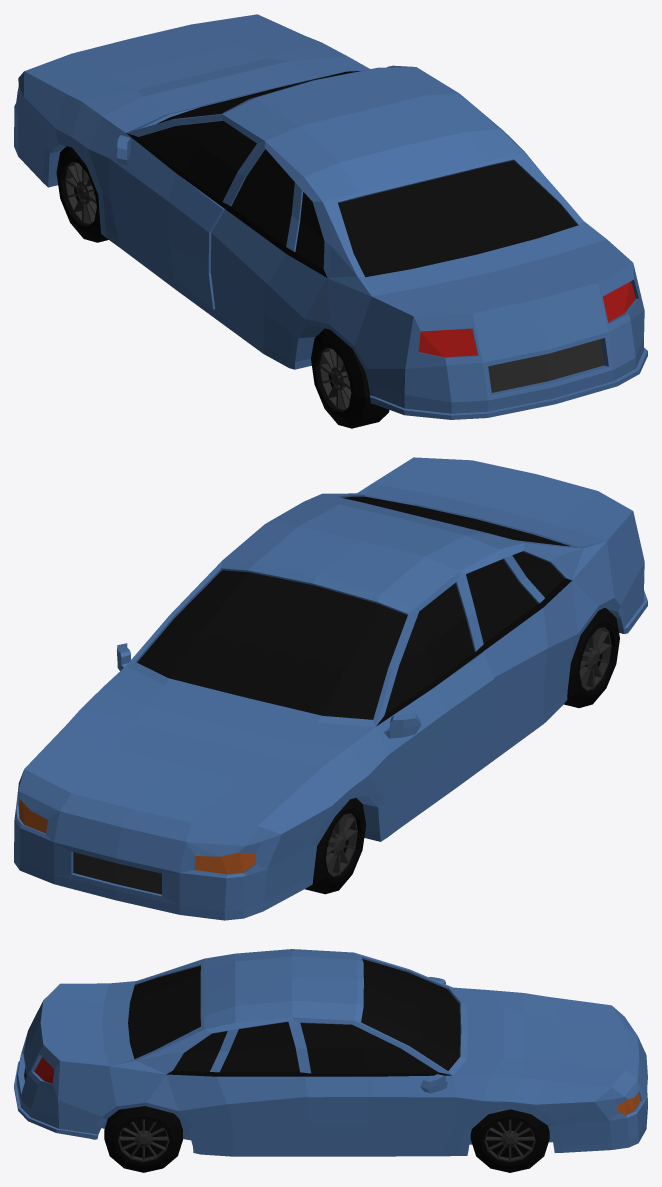
Rendered from NormalCar1.glb.
The picture shows the model from 3 angles, top to bottom: view 1: azimuth 30°, elevation 25°; view 2: azimuth 150°, elevation 25°; view 3: azimuth 270°, elevation 25°; orthographic projection. The views are drawn at different scales.
Visible parts, largest first — view 1: NormalCar1_Cube.012, NormalCar1_BackWheels_Cube.011, NormalCar1_FrontLeftWheel_Cube.007; view 2: NormalCar1_Cube.012, NormalCar1_BackWheels_Cube.011, NormalCar1_FrontLeftWheel_Cube.007; view 3: NormalCar1_Cube.012, NormalCar1_BackWheels_Cube.011, NormalCar1_FrontRightWheel_Cube.008.
Part boxes in pixels (<box>): NormalCar1_Cube.012: <box>14,14,647,419</box>; NormalCar1_BackWheels_Cube.011: <box>311,328,389,428</box>; NormalCar1_FrontLeftWheel_Cube.007: <box>56,146,108,242</box>; NormalCar1_Cube.012: <box>14,457,647,920</box>; NormalCar1_BackWheels_Cube.011: <box>564,608,619,707</box>; NormalCar1_FrontLeftWheel_Cube.007: <box>305,798,366,894</box>; NormalCar1_Cube.012: <box>14,949,647,1156</box>; NormalCar1_BackWheels_Cube.011: <box>104,1106,182,1172</box>; NormalCar1_FrontRightWheel_Cube.008: <box>470,1109,549,1172</box>.
Size of the model in its own units: 1.8 by 1.17 by 4.5.
